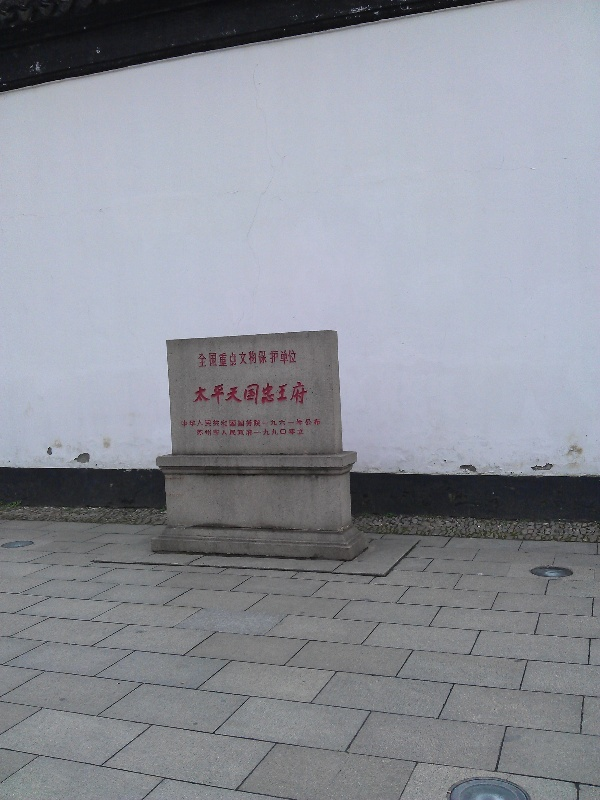text: (193, 380, 208, 406), (209, 380, 224, 406), (225, 380, 240, 406), (241, 380, 256, 406), (257, 380, 272, 406), (273, 380, 288, 406), (289, 380, 304, 406), (209, 349, 224, 369), (225, 349, 240, 369), (241, 349, 256, 369), (257, 349, 272, 369), (273, 349, 288, 369), (198, 349, 208, 369), (289, 349, 297, 369), (305, 418, 321, 428), (193, 418, 208, 428), (209, 418, 224, 428), (225, 418, 240, 428), (241, 418, 256, 428), (257, 418, 272, 428), (273, 418, 288, 428), (289, 418, 304, 428), (209, 428, 224, 437), (225, 428, 240, 437), (241, 428, 256, 437), (257, 428, 272, 437), (273, 428, 288, 437), (289, 428, 304, 437), (305, 380, 310, 406), (181, 418, 192, 428), (196, 428, 208, 437)
